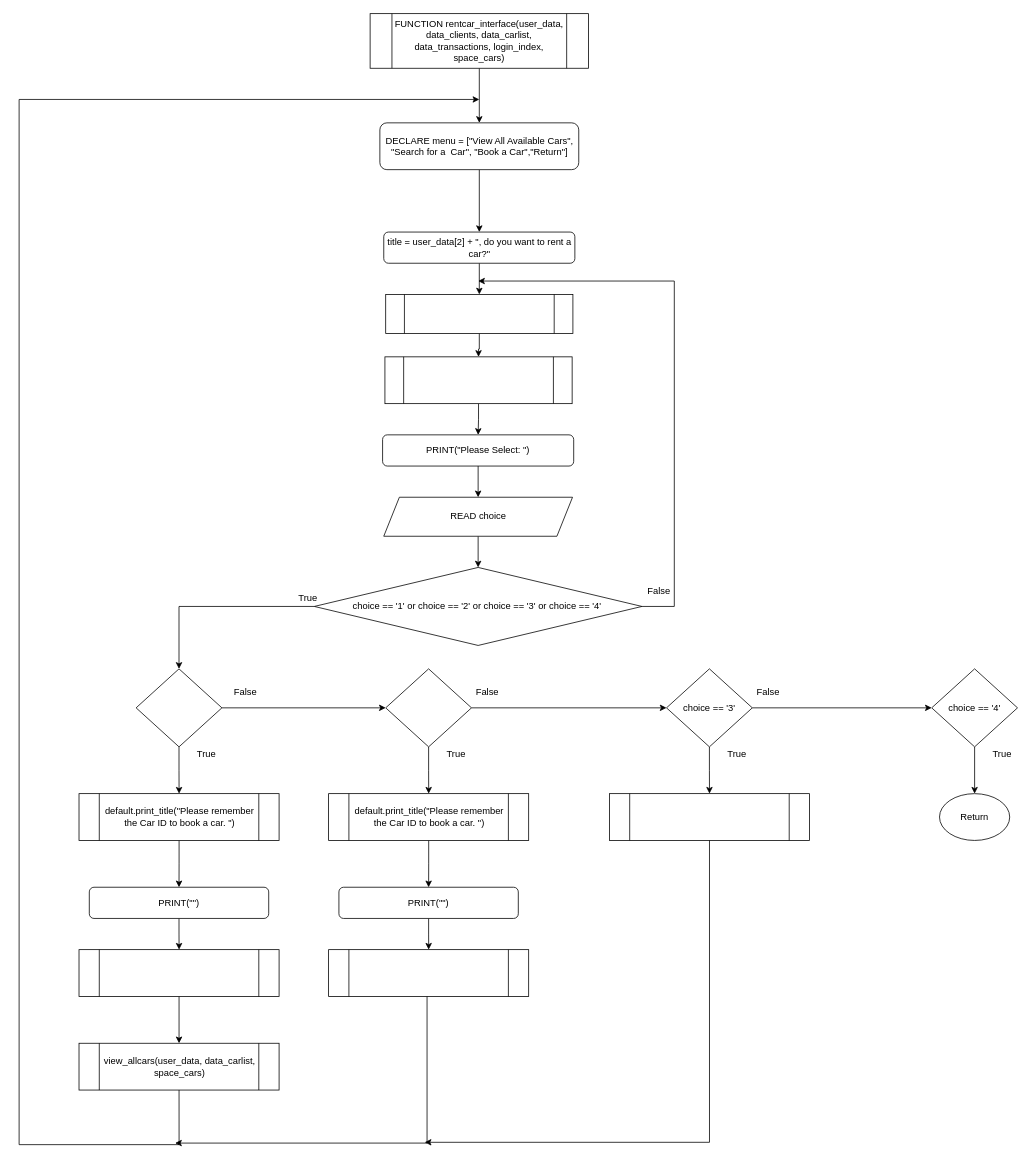
This 1031x1165 diagram has some shape labels left out. The centre of each missing label's shape, as x and y in pixels:
bookcar_interface(user_data, data_clients, data_carlist, data_transactions): point (709, 816)
choice == '1': point (178, 707)
choice == '2': point (428, 707)
default.general_menu(menu): point (478, 380)
default.print_table(data_carlist, 4, space_cars, login_index): point (178, 972)
default.print_title(title): point (479, 313)
searchcar_menu(user_data, data_carlist, space_cars): point (428, 972)
